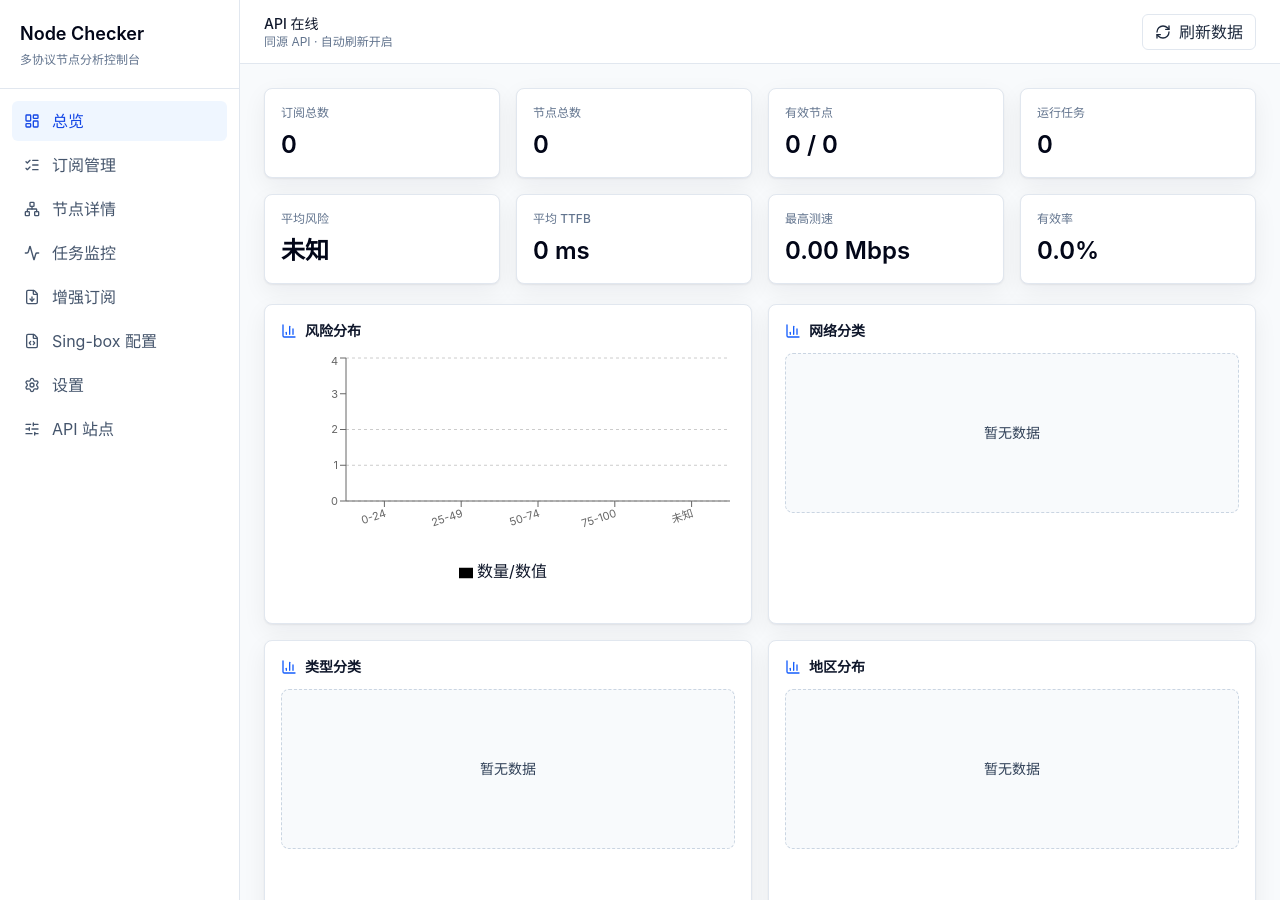
Test: App › shows mutation errors
The width and height of the screenshot is (1280, 900).
Click the button "订阅管理" at (120, 165), box 12,145 -> 227,185
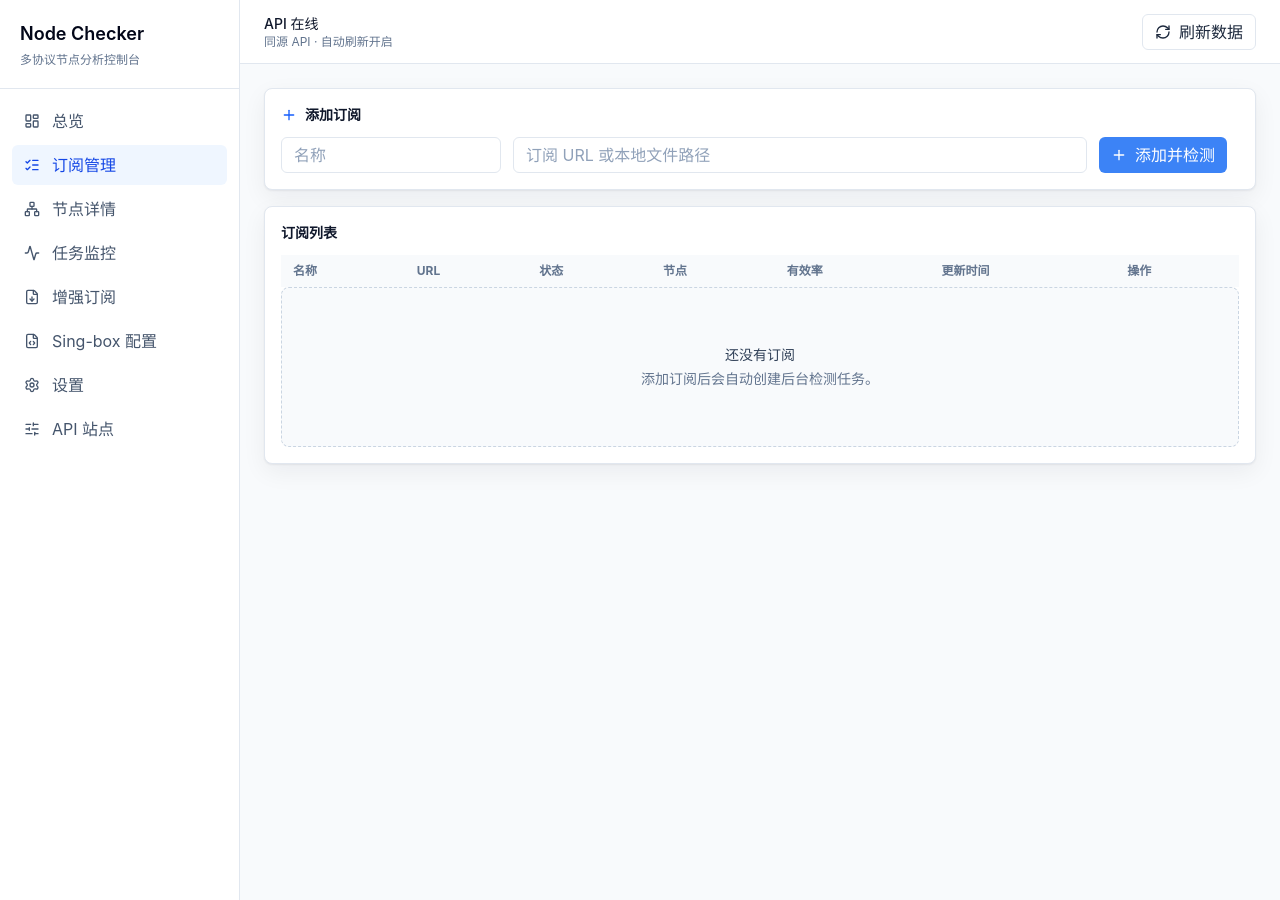
Type "missing.txt" into the field with placeholder "订阅 URL 或本地文件路径" at (800, 155), box 513,137 -> 1087,173
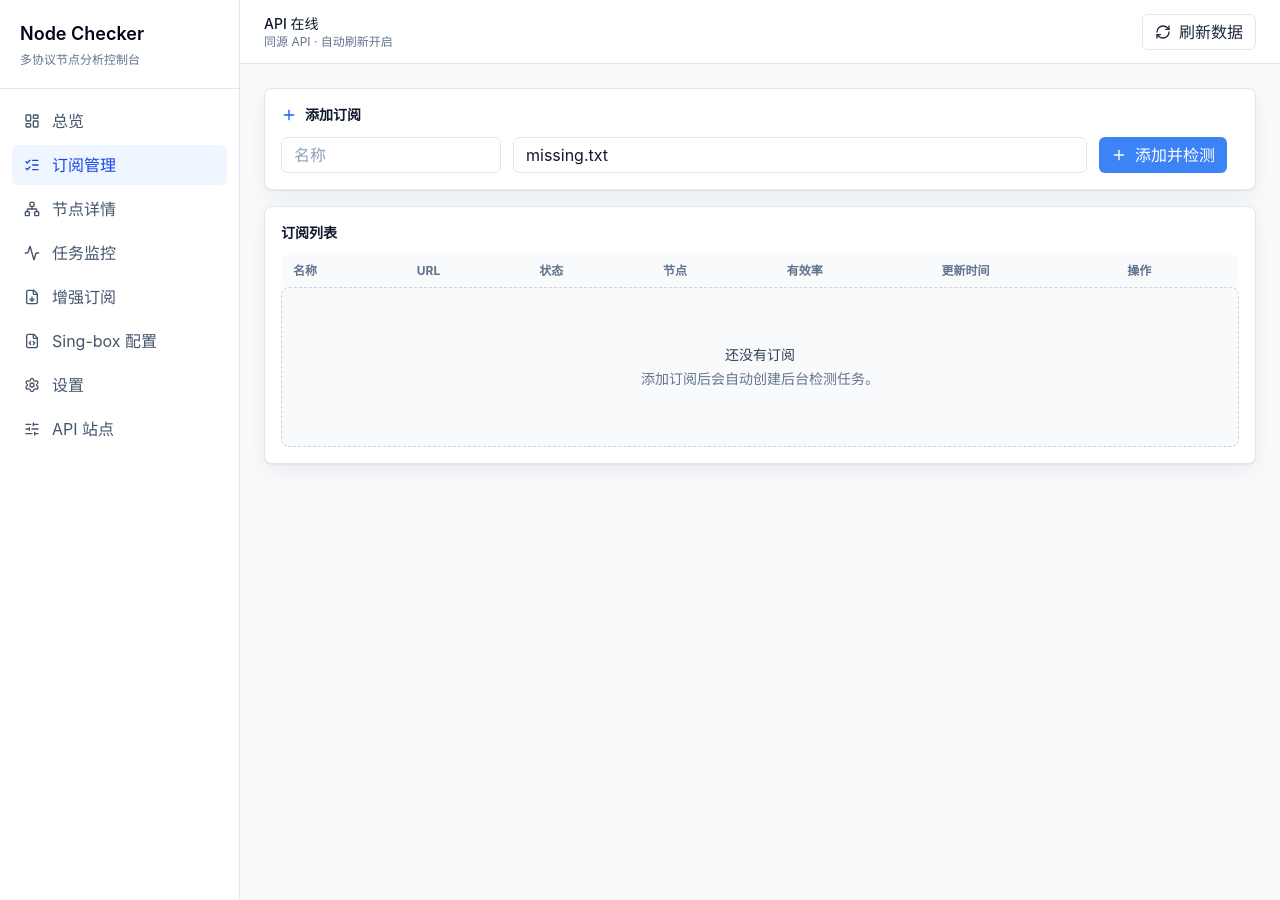
Click the button "添加并检测" at (1163, 155), box 1099,137 -> 1227,173
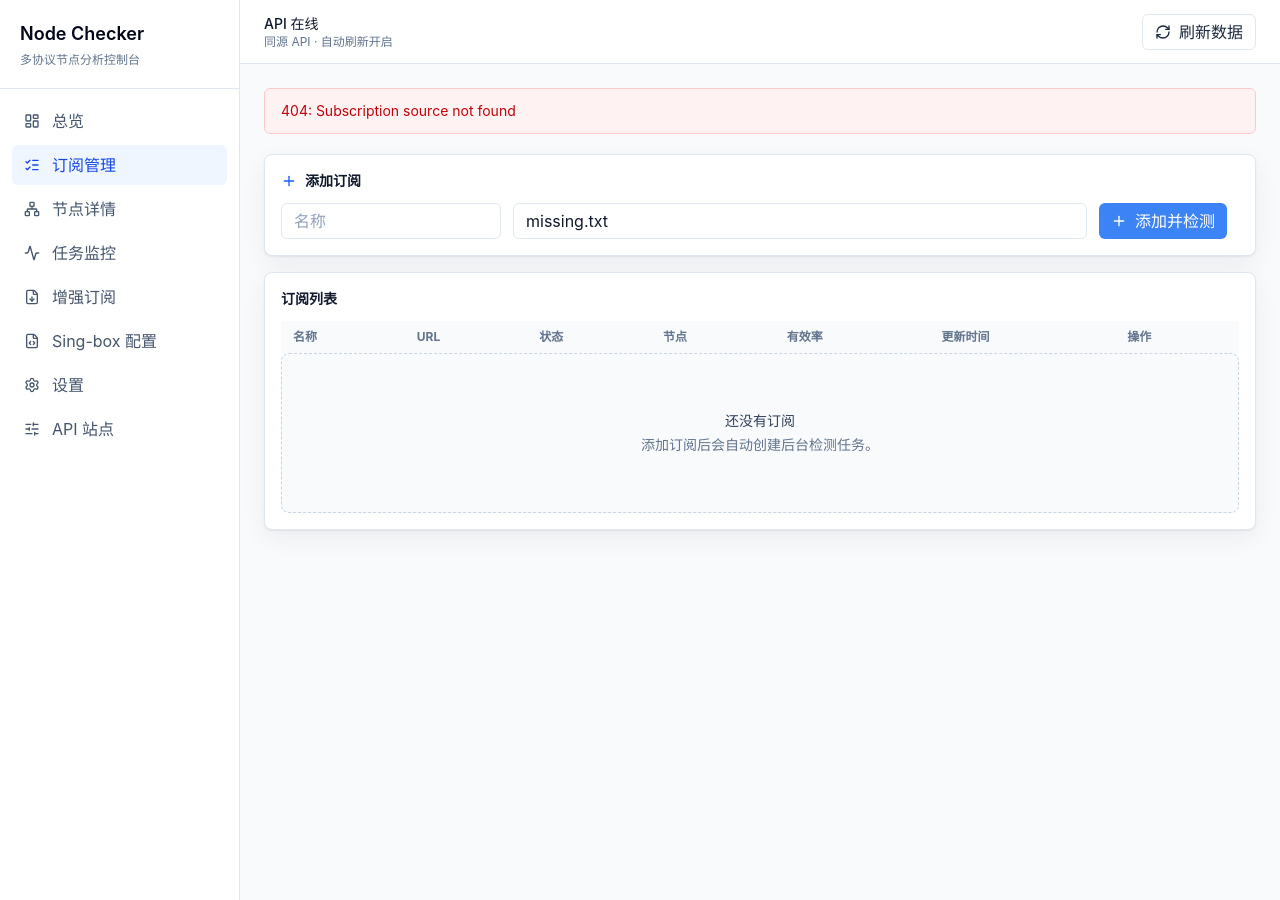
Now the text "404: Subscription source not found" is shown, box 264,88 -> 1256,134
